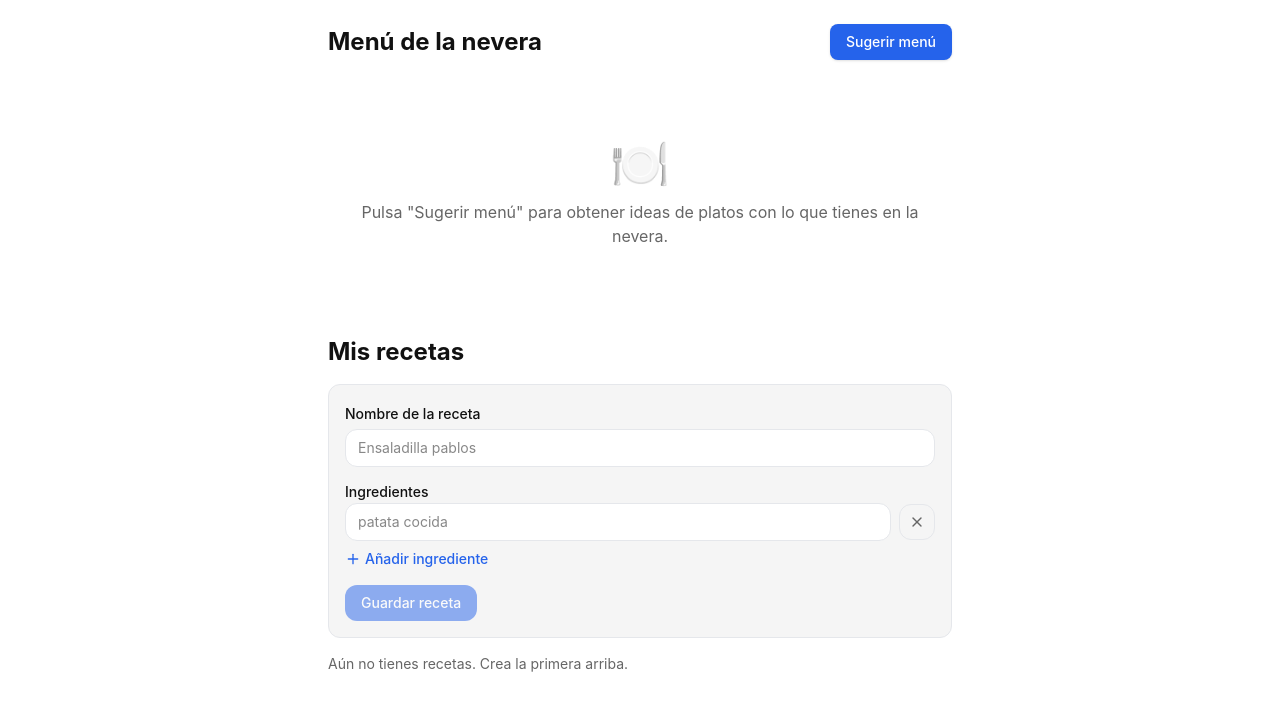
Test case: MenuPage › los ingredientes que tienes en la nevera aparecen en verde
Click the button "Sugerir menú".
click(891, 42)  # box [830,24,952,60]
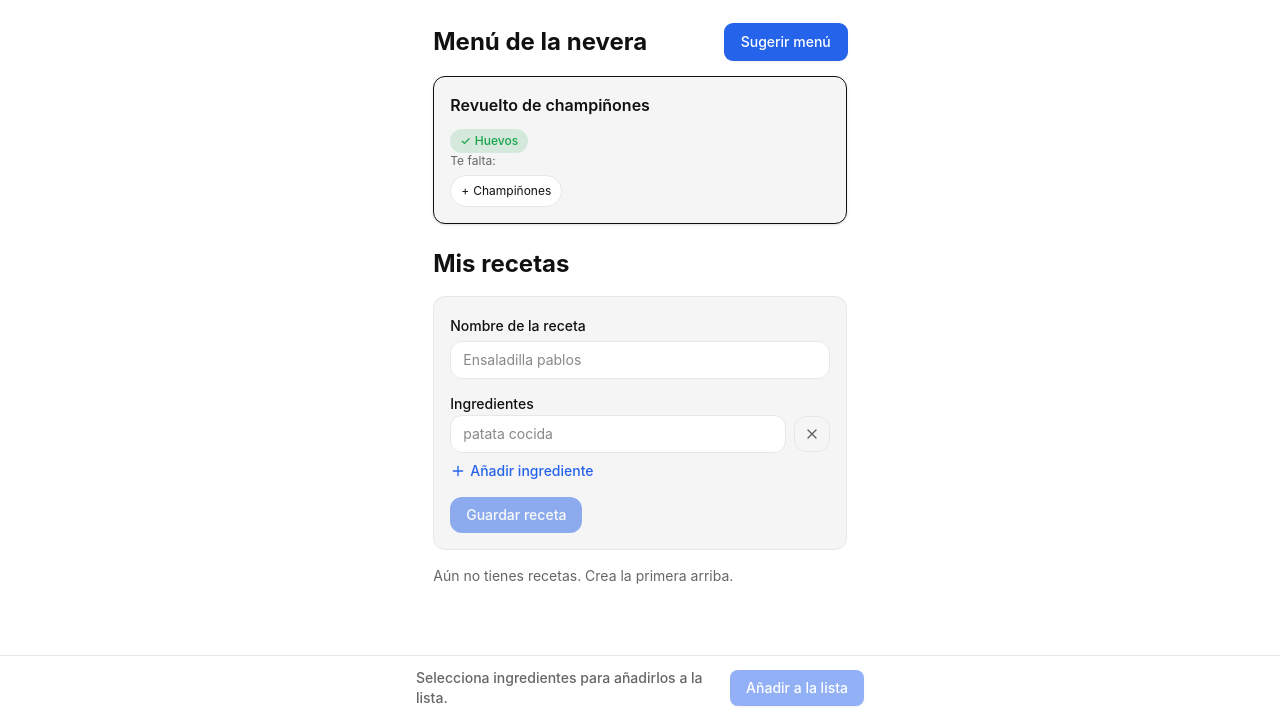
Expected: the list item "Huevos" is shown, [475,133,518,148]
